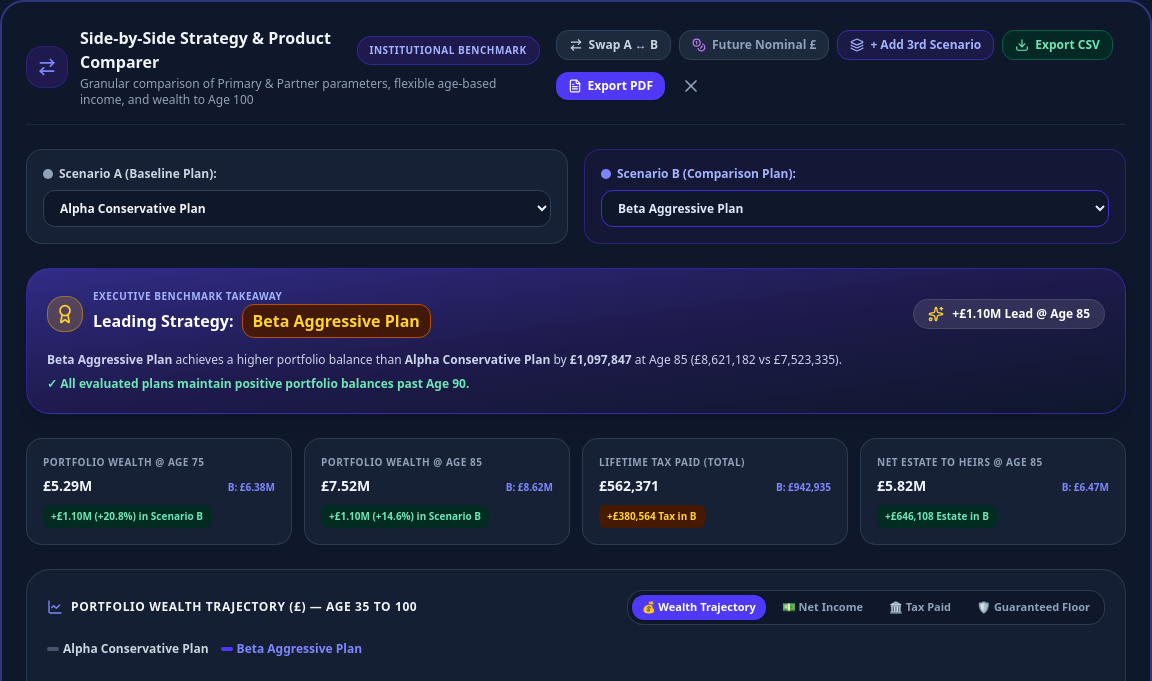
ScenarioComparer › allows toggling between Real Today £ and Future Nominal £
Click the button "Future Nominal £" at (754, 45), box left=679, top=30, right=829, bottom=60
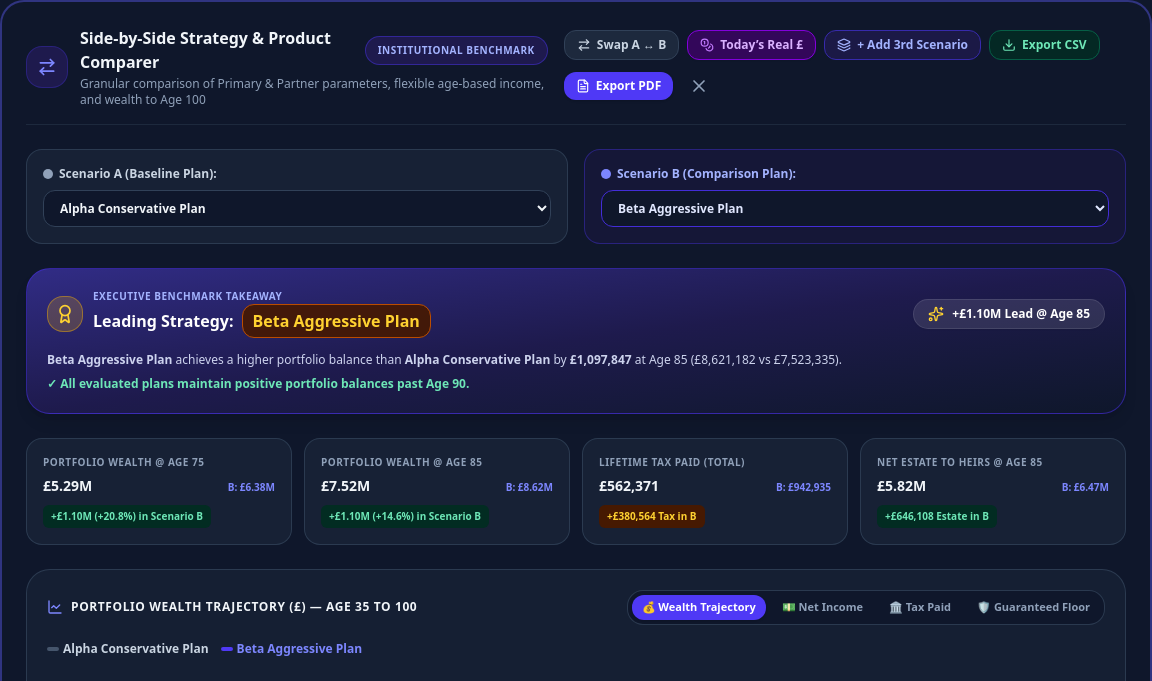
Check: the button "Today’s Real £" is shown, box left=687, top=30, right=816, bottom=60
